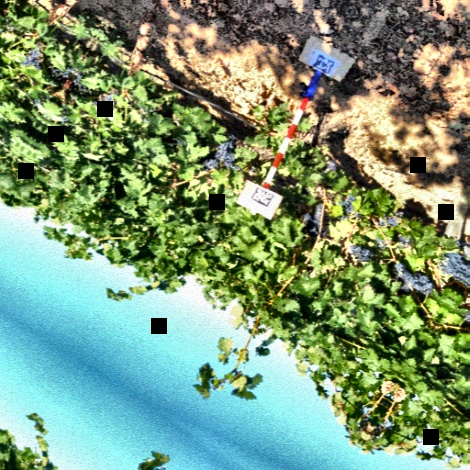QR: (249, 183, 277, 209), (311, 50, 339, 76)
